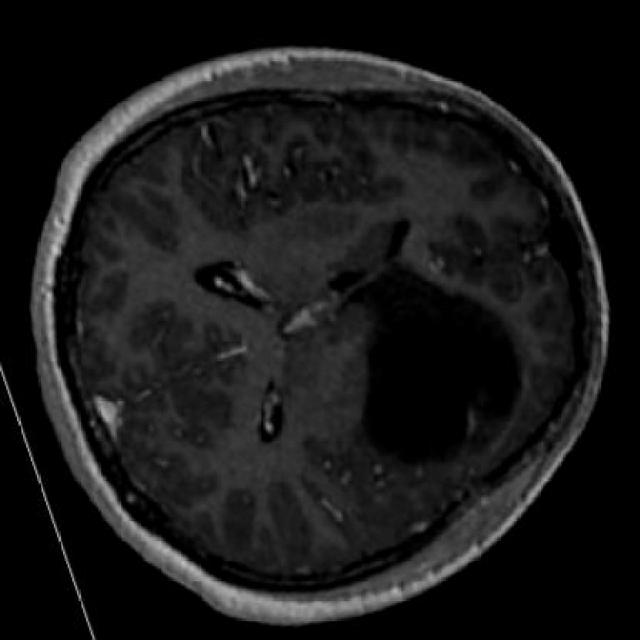Brain-Tumor: (348, 247, 545, 482)
